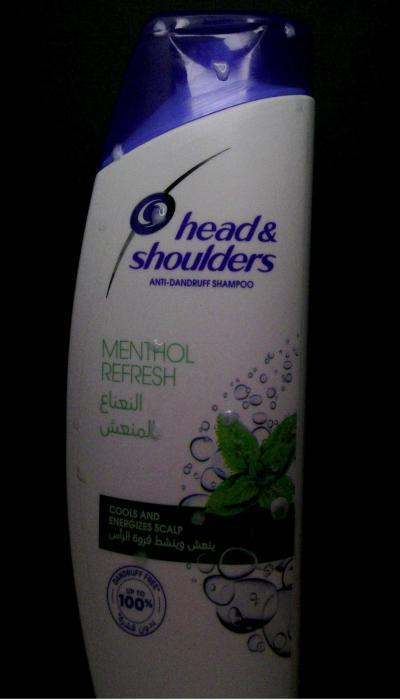pob_marg: (143, 414, 171, 444), (207, 54, 234, 84), (146, 204, 172, 233), (212, 402, 240, 428), (127, 544, 153, 572), (69, 461, 93, 491), (144, 332, 170, 358), (106, 137, 130, 164), (184, 505, 209, 527), (150, 20, 172, 44), (69, 408, 87, 432), (94, 212, 109, 240), (288, 96, 307, 116), (276, 22, 297, 40), (174, 15, 194, 32), (251, 25, 267, 36), (245, 16, 256, 25)
